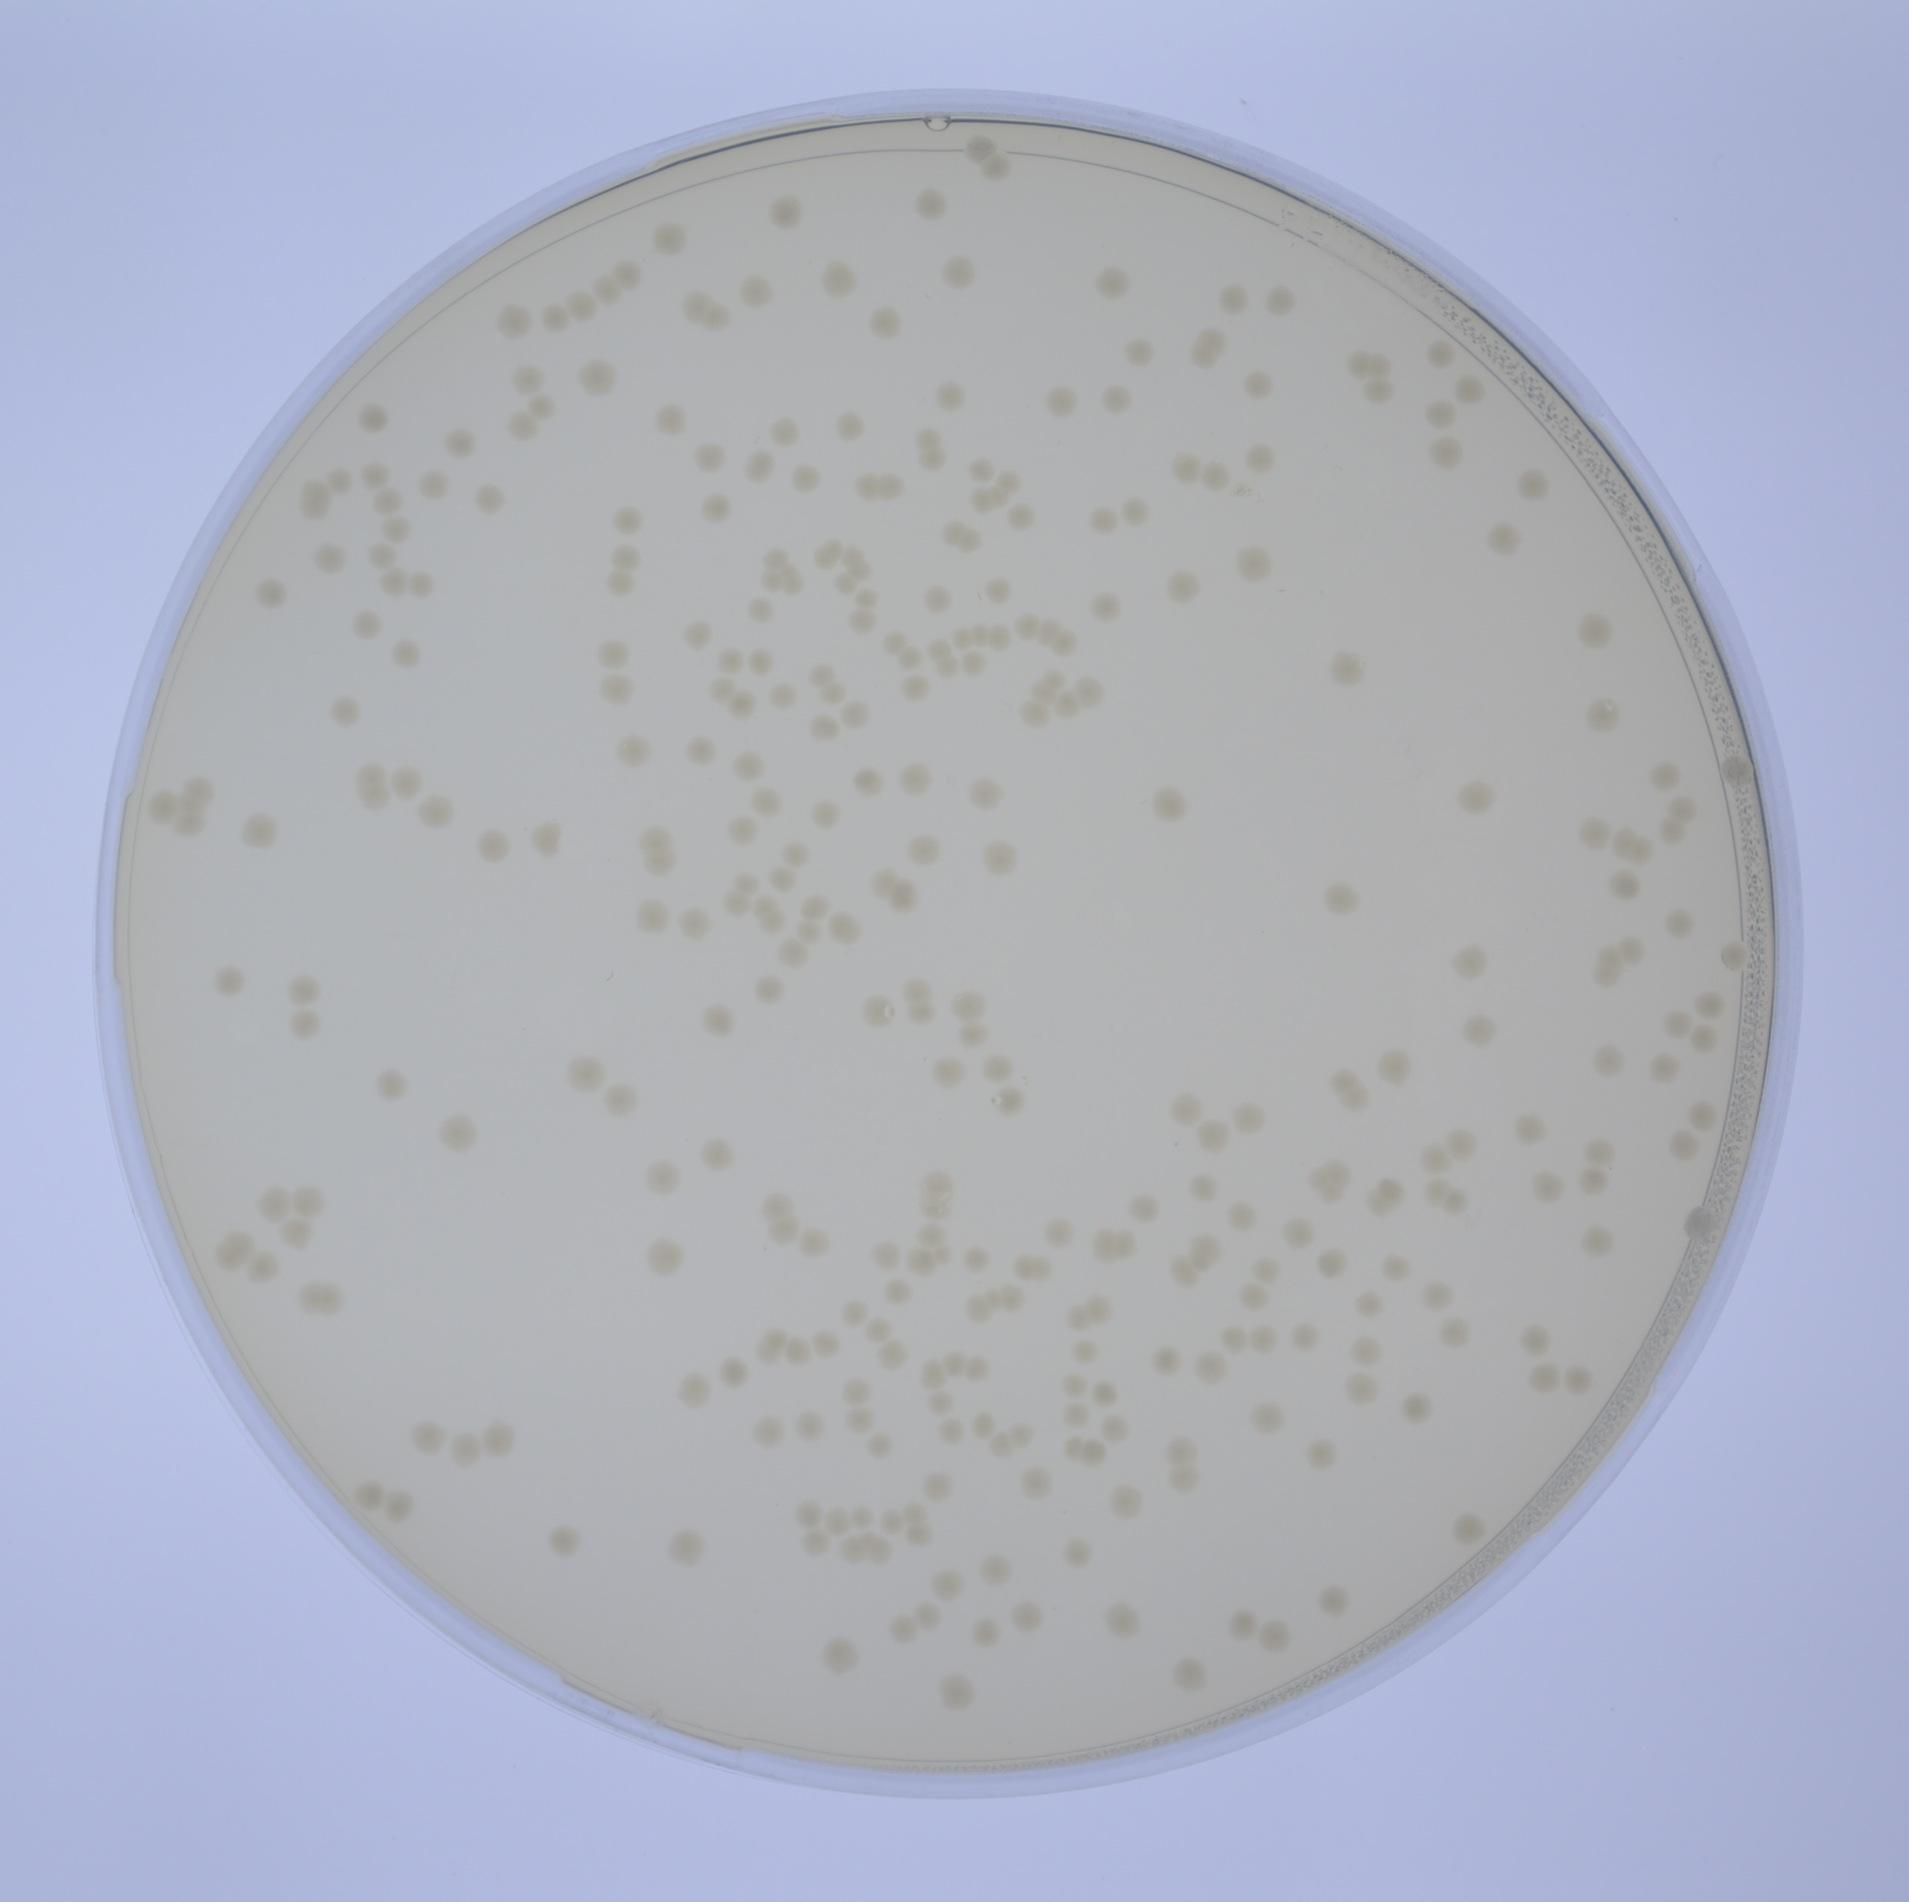colony: (1305, 1152, 1358, 1209), (1091, 1590, 1144, 1646), (925, 1664, 980, 1713), (1316, 868, 1366, 921), (472, 820, 520, 874), (486, 299, 539, 347), (970, 1549, 1026, 1594), (576, 354, 627, 402), (434, 1105, 482, 1155), (642, 1229, 689, 1280), (1442, 936, 1495, 981), (817, 1631, 866, 1678), (898, 826, 945, 875), (663, 1523, 711, 1570), (1002, 1590, 1047, 1640), (238, 807, 283, 857), (1244, 1395, 1291, 1441), (366, 1061, 412, 1107), (1324, 642, 1369, 689), (1146, 780, 1192, 825), (647, 219, 696, 261), (696, 1000, 742, 1044), (690, 485, 736, 529), (475, 1416, 521, 1460), (976, 834, 1023, 876), (1582, 689, 1622, 737), (596, 1077, 644, 1117), (139, 786, 188, 825), (1448, 1508, 1491, 1552), (855, 989, 899, 1032), (412, 790, 455, 834), (305, 535, 348, 579), (1094, 257, 1136, 302), (750, 963, 792, 1008), (611, 728, 653, 773), (814, 257, 857, 300), (672, 900, 716, 942), (710, 1350, 751, 1395), (284, 1002, 325, 1047), (640, 1156, 686, 1196), (525, 817, 567, 860), (733, 269, 774, 313), (1423, 434, 1467, 475), (1512, 464, 1556, 505), (1165, 445, 1206, 489), (1010, 1464, 1055, 1504), (563, 1050, 608, 1090), (925, 375, 970, 415), (209, 960, 256, 998), (1050, 1533, 1098, 1570), (674, 1369, 716, 1411), (697, 1132, 739, 1174), (965, 773, 1007, 815), (436, 420, 478, 462), (257, 1184, 298, 1227), (280, 969, 324, 1009), (1457, 1011, 1502, 1050), (938, 249, 979, 291), (1104, 1480, 1148, 1519), (948, 987, 993, 1025), (963, 1613, 1004, 1654), (894, 757, 935, 798), (1573, 611, 1615, 651), (1234, 544, 1276, 584), (593, 667, 636, 706), (1166, 1651, 1210, 1689), (824, 908, 868, 946), (743, 593, 781, 637), (604, 499, 650, 535), (242, 1244, 282, 1285), (386, 631, 426, 672), (651, 396, 691, 437), (559, 285, 600, 325), (1184, 1232, 1224, 1273), (675, 612, 717, 651), (407, 1419, 449, 1458), (691, 436, 730, 478), (544, 1517, 587, 1555), (765, 410, 803, 453), (1258, 281, 1298, 321), (882, 877, 922, 917), (927, 1566, 968, 1605), (805, 1325, 846, 1364), (1253, 1617, 1295, 1655), (379, 1487, 421, 1525), (1603, 868, 1646, 905), (628, 896, 671, 933), (1720, 750, 1756, 794), (719, 685, 763, 721), (590, 634, 635, 669), (865, 302, 904, 342), (1485, 516, 1524, 556), (445, 1430, 484, 1470), (167, 801, 207, 840), (676, 286, 715, 326), (1645, 754, 1683, 795), (287, 1182, 329, 1219), (1372, 1047, 1415, 1083), (471, 478, 507, 521), (911, 186, 955, 221), (1577, 1221, 1615, 1261), (741, 443, 781, 481), (785, 458, 825, 496), (916, 1165, 956, 1203), (1194, 455, 1231, 496), (1576, 811, 1612, 853), (1454, 775, 1493, 813), (872, 1334, 910, 1373), (959, 1289, 996, 1329), (704, 666, 744, 703), (748, 1416, 789, 1452), (605, 538, 646, 574), (1083, 504, 1125, 539), (352, 782, 396, 815), (1612, 930, 1650, 968), (1680, 1203, 1717, 1242), (1221, 1604, 1258, 1643), (1717, 939, 1753, 979), (1315, 1581, 1355, 1617), (1164, 568, 1204, 604), (354, 403, 395, 438), (1191, 1349, 1229, 1386), (1073, 674, 1110, 712), (278, 1212, 315, 1250), (1098, 378, 1135, 416), (978, 149, 1016, 186), (1591, 1043, 1630, 1079), (1230, 1099, 1269, 1135), (1168, 1090, 1207, 1126), (1221, 1198, 1260, 1234), (878, 1271, 917, 1307), (836, 695, 872, 734), (1041, 382, 1080, 418), (293, 1279, 329, 1318), (1088, 1227, 1122, 1268), (1423, 395, 1460, 432), (1646, 1049, 1683, 1086), (773, 933, 810, 970), (602, 564, 639, 601), (534, 299, 571, 336), (1529, 1168, 1565, 1206), (1347, 1332, 1383, 1370), (388, 764, 426, 800), (180, 773, 218, 809), (588, 272, 626, 308), (722, 809, 761, 844), (1241, 438, 1280, 473), (920, 1467, 954, 1507), (1280, 1215, 1317, 1251), (734, 864, 772, 899), (252, 570, 287, 608), (1163, 1256, 1201, 1291), (927, 1055, 966, 1089), (412, 465, 451, 499), (758, 1188, 797, 1222), (866, 1238, 907, 1270), (1685, 1099, 1721, 1135), (1341, 1369, 1377, 1405), (358, 458, 394, 494), (1215, 1321, 1252, 1356), (980, 1049, 1017, 1084), (989, 1084, 1026, 1119), (514, 360, 551, 395), (1241, 365, 1275, 403), (1436, 1313, 1470, 1351), (863, 1531, 897, 1569), (899, 972, 937, 1006), (346, 606, 385, 639), (352, 757, 392, 789), (1120, 333, 1156, 368), (1691, 988, 1726, 1024), (1525, 1361, 1561, 1396), (1090, 1376, 1126, 1411), (959, 1349, 995, 1384), (1088, 588, 1124, 623), (377, 565, 413, 600), (1668, 1129, 1702, 1166), (994, 1278, 1031, 1312), (1017, 697, 1054, 731), (328, 693, 362, 730), (610, 257, 647, 291), (875, 467, 909, 504), (799, 1525, 832, 1563), (917, 1354, 955, 1387), (795, 1224, 833, 1257), (729, 749, 768, 781), (960, 132, 999, 164), (850, 762, 885, 797), (803, 708, 838, 743), (350, 1478, 385, 1513), (381, 510, 416, 545), (525, 389, 560, 424), (1454, 372, 1490, 406), (1445, 1126, 1479, 1162), (772, 562, 806, 598), (211, 1242, 247, 1276), (866, 865, 902, 899), (1197, 323, 1233, 357), (862, 1428, 899, 1461), (1164, 1434, 1202, 1466), (748, 784, 786, 816), (850, 468, 882, 506), (641, 849, 681, 879), (635, 824, 675, 854), (1558, 1360, 1593, 1394), (1063, 1399, 1098, 1433), (790, 1493, 824, 1528), (781, 835, 816, 869), (685, 731, 720, 765), (755, 540, 790, 574), (834, 408, 868, 443), (1286, 1319, 1319, 1355), (1042, 1216, 1078, 1249), (960, 1242, 996, 1275), (791, 915, 827, 948), (809, 798, 845, 831), (505, 410, 538, 446), (1116, 494, 1152, 527), (771, 192, 803, 229), (1662, 908, 1699, 940), (1126, 1192, 1163, 1224), (779, 1332, 811, 1369), (717, 885, 754, 917), (767, 679, 804, 711), (902, 998, 940, 1029), (1195, 1118, 1229, 1152), (1314, 1244, 1348, 1278), (366, 540, 400, 574), (714, 642, 749, 675), (1002, 500, 1037, 533), (223, 1222, 258, 1255), (1662, 1010, 1698, 1042), (1512, 1114, 1548, 1146), (1245, 1323, 1281, 1355), (908, 1600, 940, 1636), (919, 582, 955, 614), (962, 454, 998, 486), (956, 1020, 993, 1051), (1305, 1435, 1339, 1468), (700, 302, 733, 336), (792, 1407, 824, 1442), (319, 1282, 351, 1317), (1339, 1083, 1374, 1115), (1667, 792, 1702, 824), (764, 863, 800, 894), (765, 1217, 801, 1248), (1399, 1389, 1432, 1422), (847, 605, 880, 638), (1216, 281, 1248, 315), (874, 1505, 908, 1537), (860, 1311, 894, 1343), (758, 1321, 792, 1353), (1575, 1166, 1610, 1197), (1003, 1414, 1038, 1445), (1366, 348, 1397, 383), (1080, 1436, 1109, 1473), (1519, 1323, 1551, 1356), (840, 1297, 872, 1330), (1187, 340, 1220, 372), (953, 523, 985, 556), (1416, 1141, 1450, 1172), (1377, 1253, 1411, 1284), (899, 1499, 933, 1530), (916, 444, 950, 475), (371, 486, 406, 516), (1654, 818, 1689, 848), (837, 1377, 874, 1405), (1362, 374, 1394, 406), (745, 643, 777, 675), (1094, 1409, 1125, 1442), (883, 1613, 914, 1646), (908, 1246, 939, 1279), (899, 671, 932, 702), (325, 464, 358, 495), (1687, 1022, 1721, 1052), (1239, 1279, 1269, 1313), (1060, 1371, 1094, 1401), (839, 1531, 869, 1565), (935, 1414, 969, 1444), (938, 1347, 972, 1377), (1169, 1464, 1201, 1495), (406, 567, 437, 599), (1424, 339, 1457, 369), (1249, 1255, 1282, 1285), (878, 627, 911, 657), (1627, 837, 1657, 870), (816, 680, 850, 709), (296, 499, 332, 526), (903, 1519, 934, 1550), (927, 1237, 959, 1267), (924, 1384, 957, 1413), (757, 566, 790, 595), (1582, 1137, 1616, 1165), (916, 1219, 950, 1247), (1344, 347, 1371, 382), (1351, 1288, 1382, 1318), (1380, 1176, 1410, 1207), (912, 420, 943, 450), (936, 517, 967, 547), (1187, 1171, 1216, 1203), (892, 644, 924, 673), (800, 890, 833, 918), (1086, 1293, 1114, 1326), (805, 661, 838, 689), (919, 1196, 953, 1223), (297, 477, 332, 503), (1153, 1345, 1183, 1375), (986, 623, 1017, 652), (1063, 1304, 1092, 1335), (1367, 1190, 1398, 1219), (1592, 963, 1623, 992), (972, 1411, 1004, 1439), (1608, 827, 1636, 859), (994, 467, 1024, 496), (752, 1340, 782, 1369), (1440, 1188, 1470, 1217), (1422, 1175, 1450, 1206), (966, 486, 998, 513), (1114, 1227, 1140, 1260), (983, 574, 1013, 602), (1325, 1068, 1355, 1096), (1052, 690, 1079, 721), (757, 910, 788, 937), (823, 1507, 852, 1535), (1053, 630, 1082, 658), (845, 1404, 875, 1431), (1069, 1340, 1101, 1365), (1014, 614, 1046, 639), (981, 1283, 1009, 1311), (1422, 1282, 1452, 1308), (1593, 944, 1624, 969), (845, 1500, 874, 1526), (925, 637, 954, 663), (1028, 677, 1057, 703), (1040, 665, 1069, 691), (985, 1433, 1013, 1459), (854, 585, 882, 611), (834, 571, 863, 596), (959, 650, 988, 675), (1059, 1433, 1082, 1464), (1010, 1252, 1037, 1278), (1037, 620, 1065, 645), (933, 651, 960, 676), (811, 544, 836, 570), (751, 893, 778, 917), (822, 533, 847, 558), (968, 622, 994, 646), (950, 627, 976, 648), (839, 544, 864, 565), (849, 560, 872, 581)
